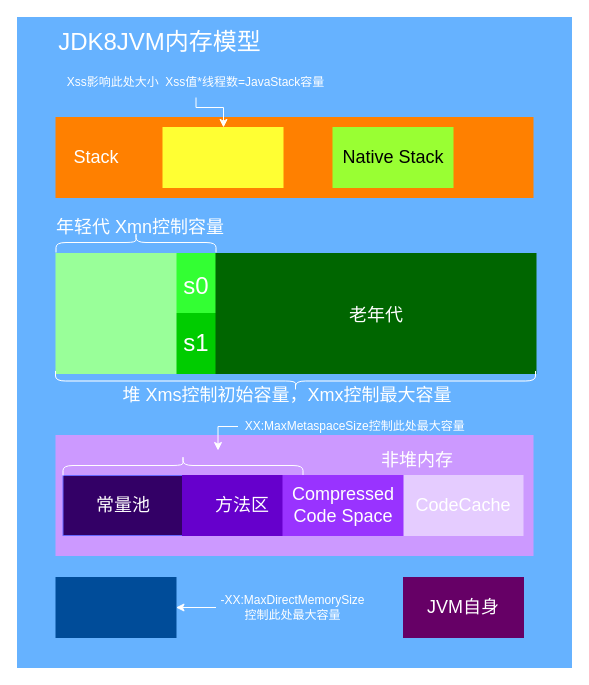
This 589x685 diagram has some shape labels left out. Each missing label, with the centre of its shape:
"DirectMemory 直接内存" goes at point (115, 607).
"Eden" goes at point (115, 313).
"Java Stack" goes at point (222, 157).
"Metaspace" goes at point (182, 465).
